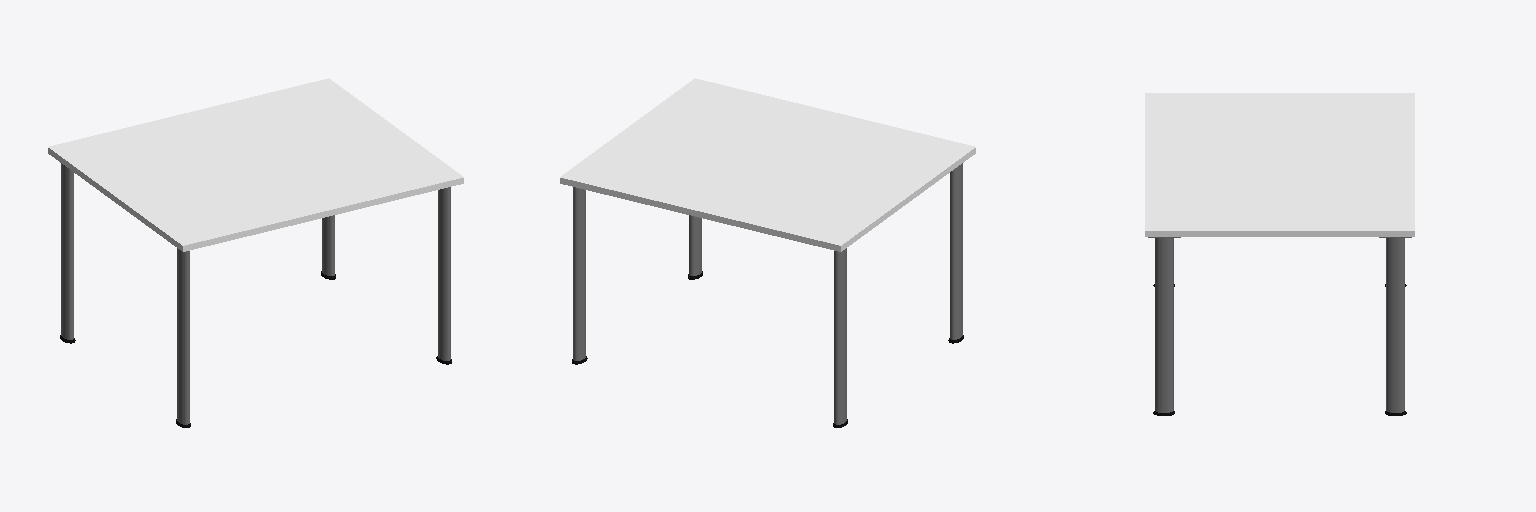
File: table_12010076.obj
The picture shows the model from 3 angles: view 1: azimuth 30°, elevation 25°; view 2: azimuth 150°, elevation 25°; view 3: azimuth 270°, elevation 25°; orthographic projection.
Visible parts, largest first — view 1: 1, 2, 8, 4, 6; view 2: 1, 4, 6, 2, 8; view 3: 1, 6, 8.
Boxes of the visible parts, x1=… form: 1: x1=48, y1=78, x2=463, y2=251; 2: x1=177, y1=248, x2=189, y2=424; 8: x1=438, y1=187, x2=450, y2=360; 4: x1=61, y1=163, x2=73, y2=339; 6: x1=322, y1=215, x2=334, y2=275; 1: x1=560, y1=78, x2=975, y2=251; 4: x1=834, y1=248, x2=846, y2=424; 6: x1=573, y1=187, x2=585, y2=360; 2: x1=950, y1=163, x2=962, y2=339; 8: x1=689, y1=215, x2=701, y2=275; 1: x1=1145, y1=93, x2=1414, y2=236; 6: x1=1379, y1=237, x2=1411, y2=412; 8: x1=1148, y1=237, x2=1180, y2=412.
Size of the model in its own units: 120 by 76.5 by 100.